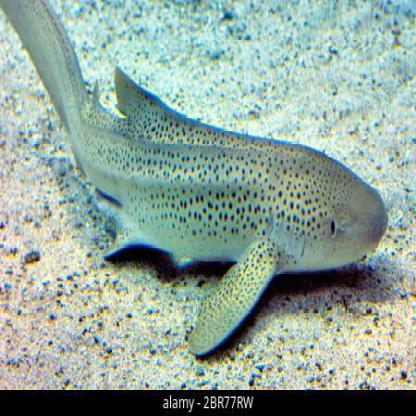zebra_shark: (2, 0, 393, 360)
